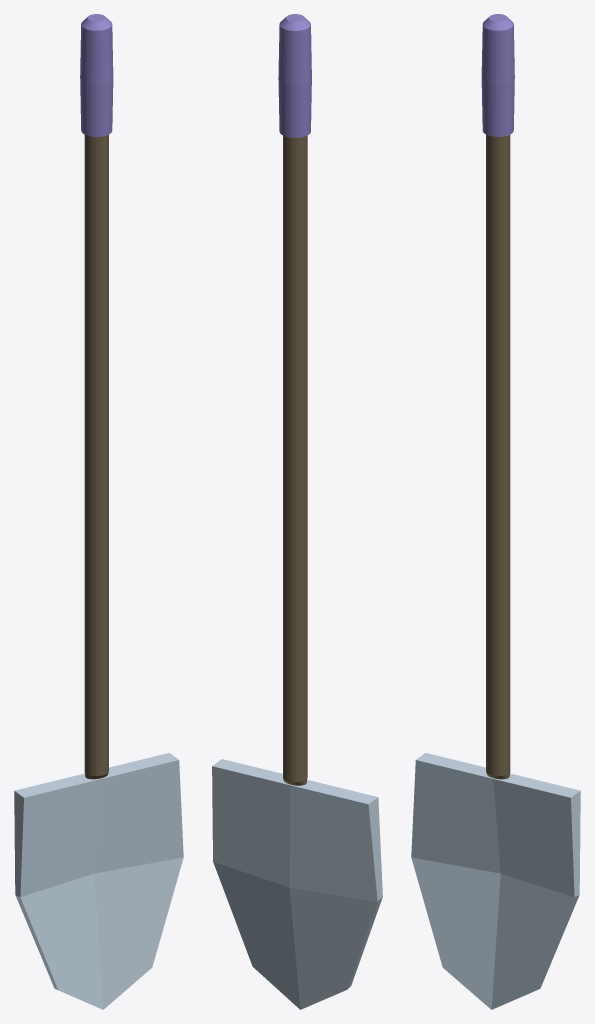
Rendered from Shovel.fbx.
The picture shows the model from 3 angles, left to right: view 1: azimuth 30°, elevation 25°; view 2: azimuth 150°, elevation 25°; view 3: azimuth 330°, elevation 25°; orthographic projection.
Visible parts, largest first — view 1: Shovel; view 2: Shovel; view 3: Shovel.
Boxes of the visible parts, bbox=[...] form: Shovel: bbox=[14, 14, 183, 1009]; Shovel: bbox=[212, 14, 382, 1009]; Shovel: bbox=[411, 14, 580, 1009].
Bounding box in the file's own units: 25.96 × 150 × 4.67.
